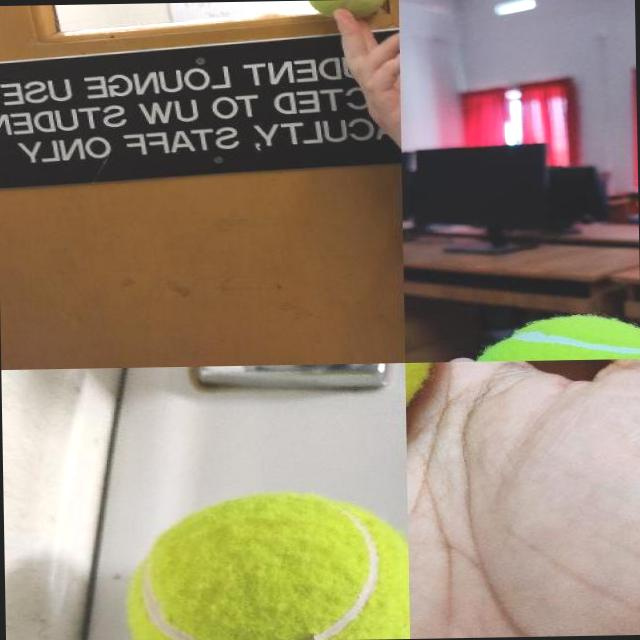Tennis Ball: (121, 486, 410, 640), (304, 0, 391, 21)
